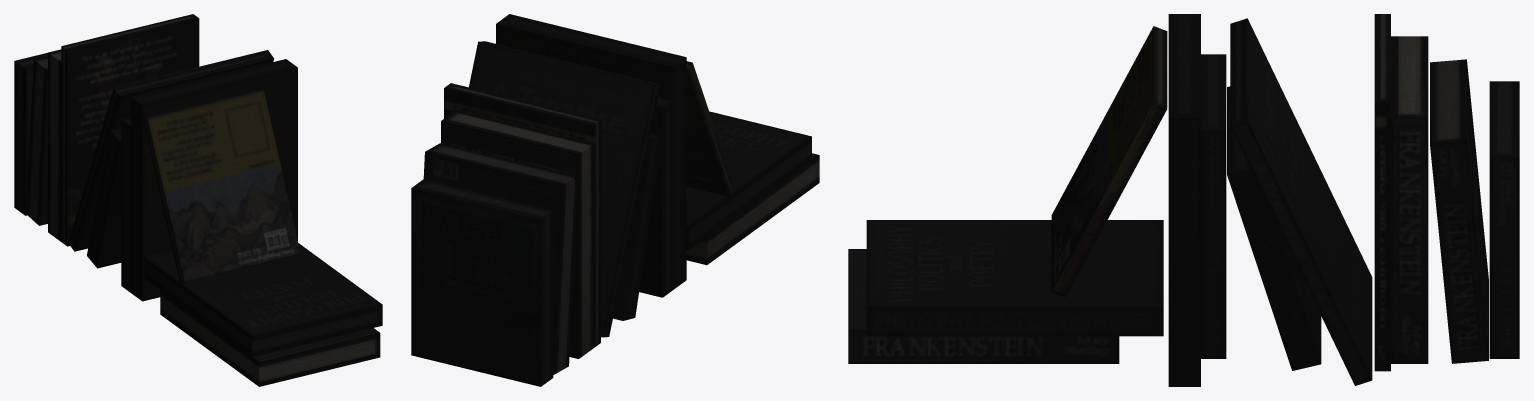
Rendered from accessories_book_row01_lod0.glb.
3 renders of one model, left to right at view 1: azimuth 30°, elevation 25°; view 2: azimuth 150°, elevation 25°; view 3: azimuth 270°, elevation 25°, orthographic. The views are drawn at different scales.
Visible parts, largest first — view 1: surf0; view 2: surf0; view 3: surf0.
Boxes of the visible parts, x1,y1,x2,y2 form: surf0: (14, 14, 382, 386); surf0: (411, 14, 819, 386); surf0: (848, 14, 1519, 386).
Bounding box in the file's own units: 9.97 × 12 × 27.17.
